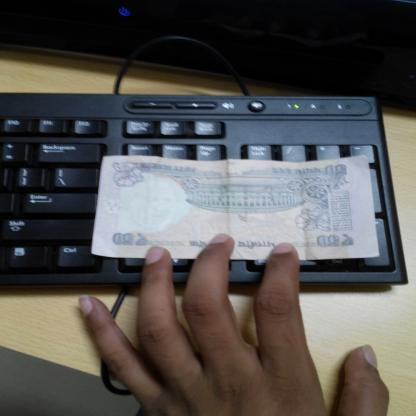Old50Back: (90, 156, 380, 259)
